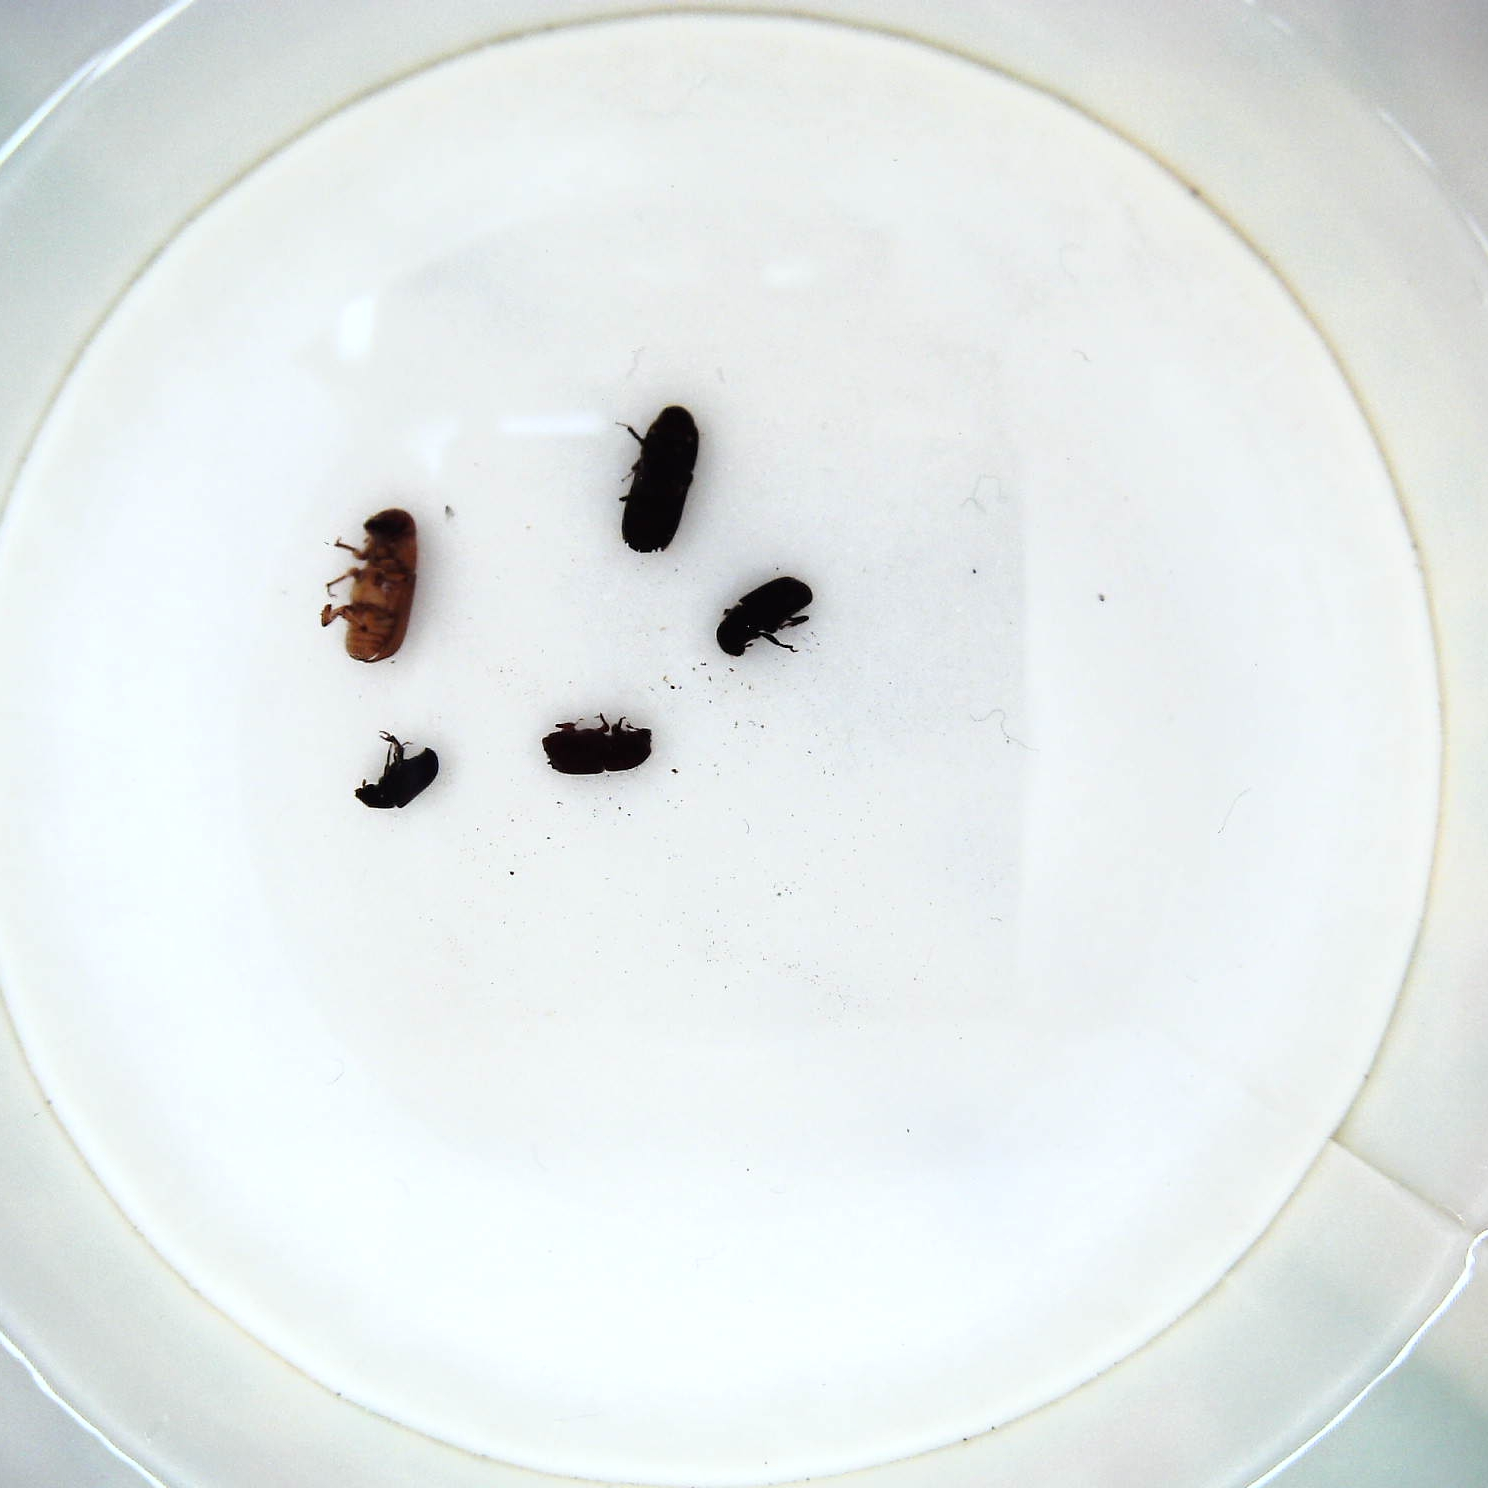Boerner: (613, 401, 711, 563)
Leconte: (315, 507, 422, 673)
armandi: (713, 578, 818, 664)
coleoptera: (352, 729, 441, 818)
linnaeus: (537, 713, 660, 779)
